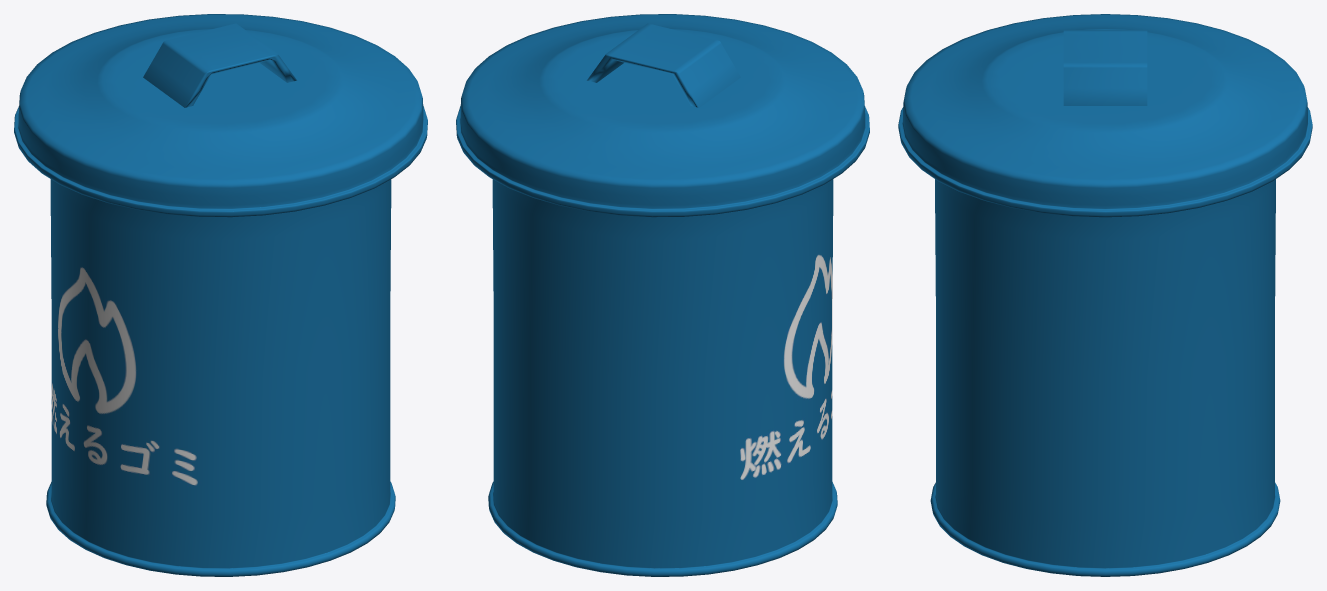
Rendered from bin01.fbx.
The picture shows the model from 3 angles, left to right: view 1: azimuth 30°, elevation 25°; view 2: azimuth 150°, elevation 25°; view 3: azimuth 270°, elevation 25°; orthographic projection.
Visible parts, largest first — view 1: pCube1; view 2: pCube1; view 3: pCube1.
Part boxes in pixels (bbox=[...]): pCube1: bbox=[14, 14, 427, 576]; pCube1: bbox=[456, 14, 869, 576]; pCube1: bbox=[898, 14, 1312, 576].
Bounding box in the file's own units: 3.55 × 4.31 × 3.55.
